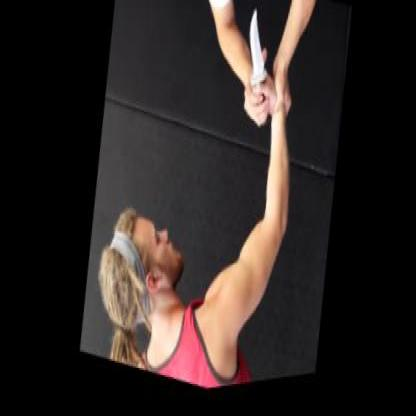knife: (232, 4, 286, 140)
